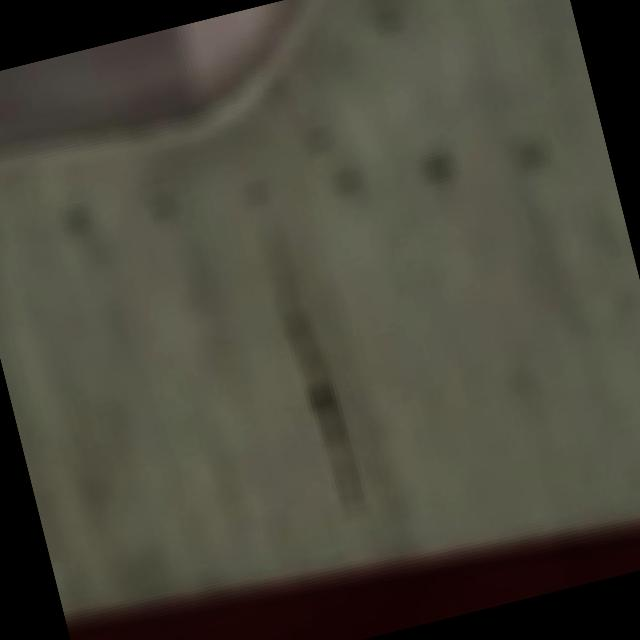crack: (259, 286, 370, 492)
